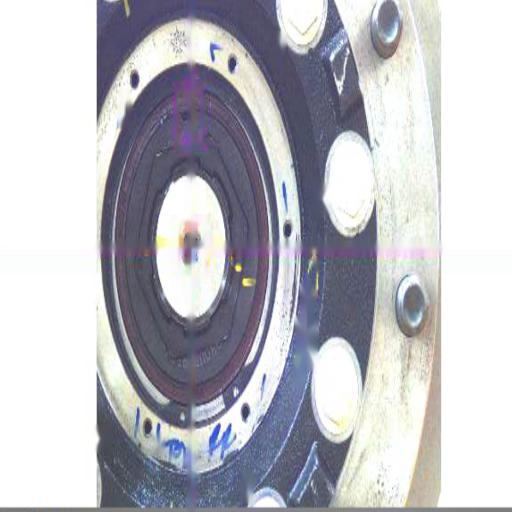center: (178, 238, 197, 273)
notch: (176, 108, 194, 132)
